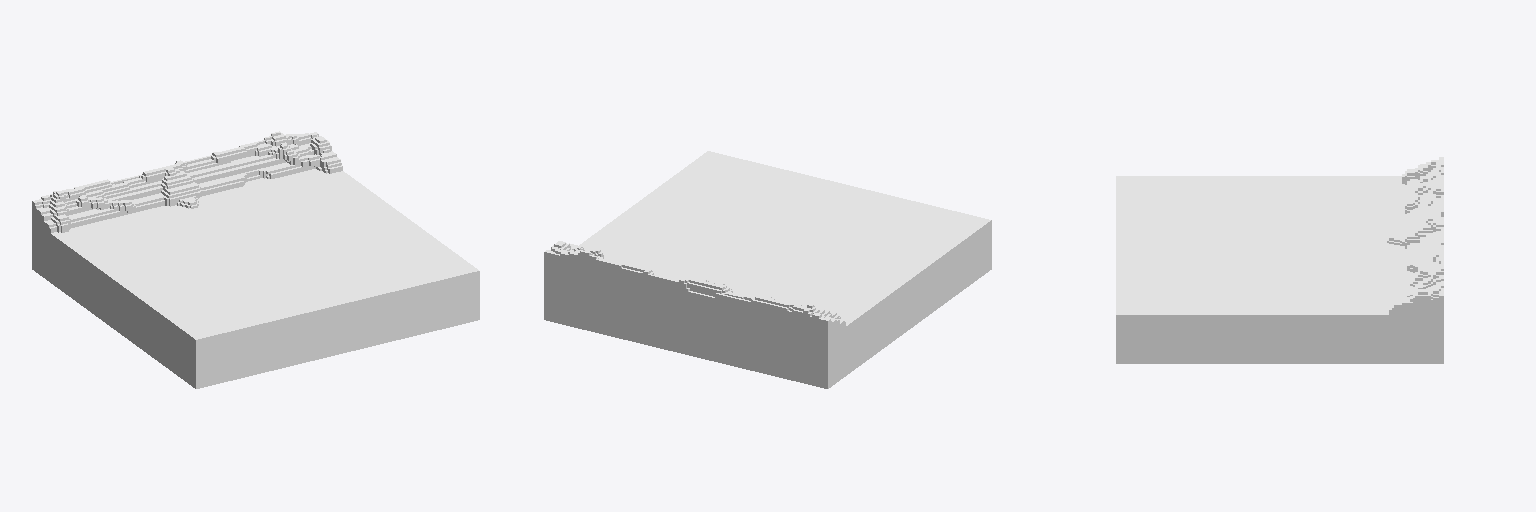
File: Map_Field-0.obj
The picture shows the model from 3 angles: view 1: azimuth 30°, elevation 25°; view 2: azimuth 150°, elevation 25°; view 3: azimuth 270°, elevation 25°; orthographic projection.
Parts seen in each view (by area): view 1: Map_Field-0; view 2: Map_Field-0; view 3: Map_Field-0.
Boxes of the visible parts, <box> form: Map_Field-0: <box>32,131,479,388</box>; Map_Field-0: <box>544,151,991,388</box>; Map_Field-0: <box>1116,157,1443,363</box>.
Size of the model in its own units: 126 by 33 by 126.